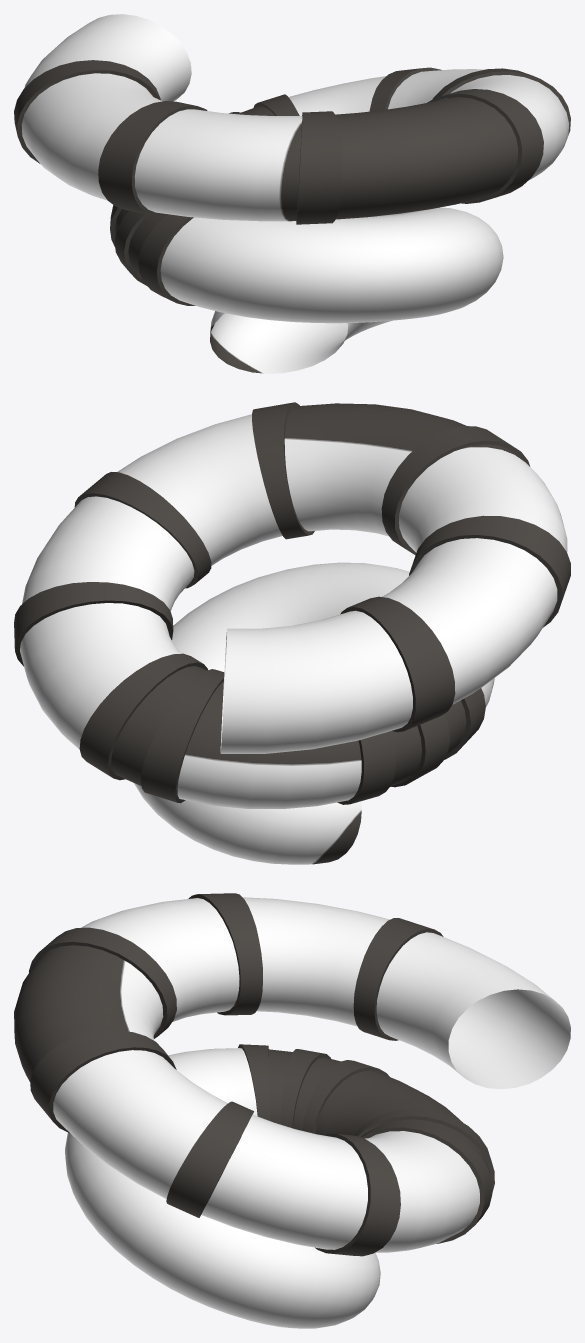
File: house_lion.fbx
3 renders of one model, top to bottom at view 1: azimuth 30°, elevation 25°; view 2: azimuth 150°, elevation 25°; view 3: azimuth 270°, elevation 25°, orthographic. The views are drawn at different scales.
Parts seen in each view (by area): view 1: Helix001; view 2: Helix001; view 3: Helix001.
Boxes of the visible parts, box(x1,y1,x2,y2) form: Helix001: box(14, 14, 570, 373); Helix001: box(14, 402, 570, 864); Helix001: box(14, 893, 570, 1328).
Size of the model in its own units: 53.68 by 37.13 by 54.94.
1 material, 1 textured.
